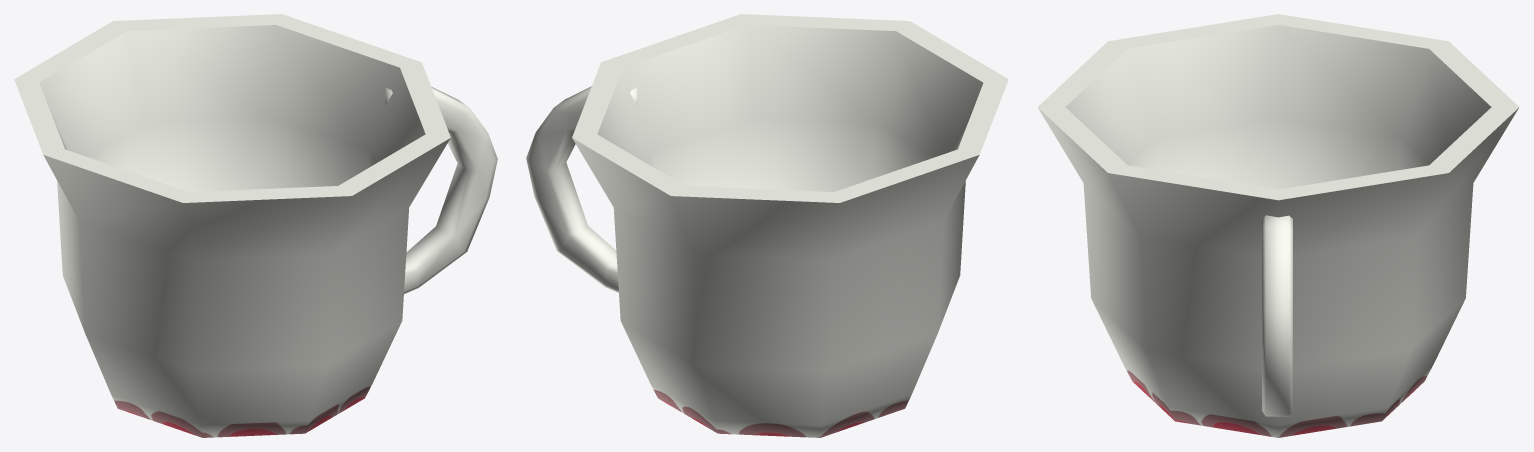
File: Teacup_A.FBX
The picture shows the model from 3 angles, left to right: view 1: azimuth 30°, elevation 25°; view 2: azimuth 150°, elevation 25°; view 3: azimuth 270°, elevation 25°; orthographic projection.
Parts seen in each view (by area): view 1: Tea_Cup; view 2: Tea_Cup; view 3: Tea_Cup.
Boxes of the visible parts, <box> form: Tea_Cup: <box>14,14,497,437</box>; Tea_Cup: <box>526,14,1008,437</box>; Tea_Cup: <box>1037,14,1519,437</box>.
Bounding box in the file's own units: 35.4 × 20.53 × 32.69.
